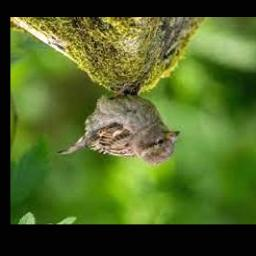Sparrow: (58, 83, 181, 167)
